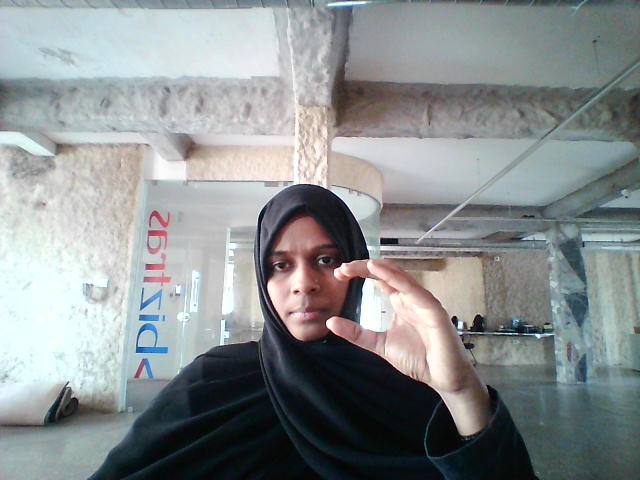NO: (332, 249, 488, 396)
